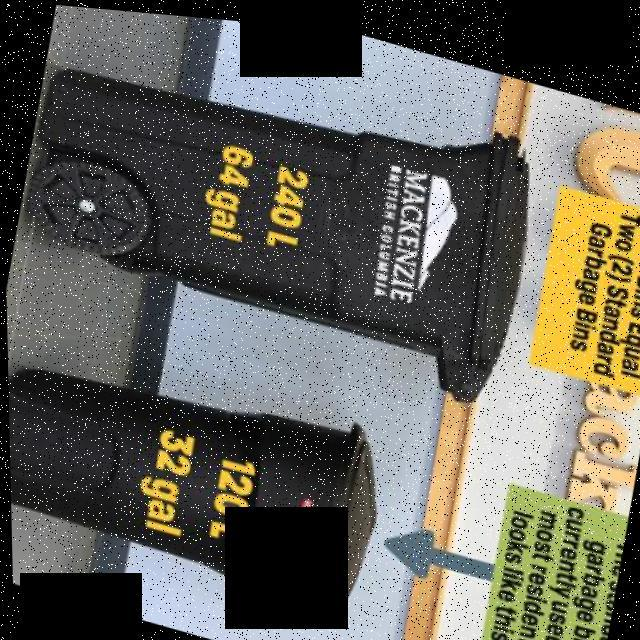bin: (1, 0, 553, 416), (5, 313, 407, 640)
